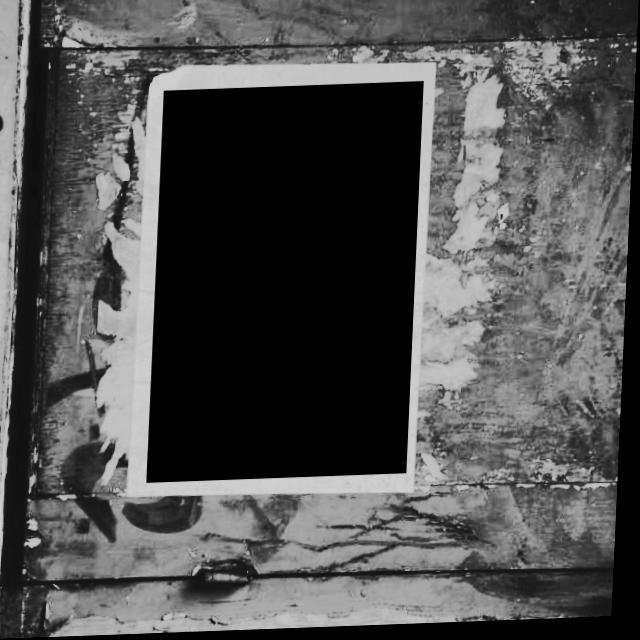qr_code: (151, 85, 425, 484)
